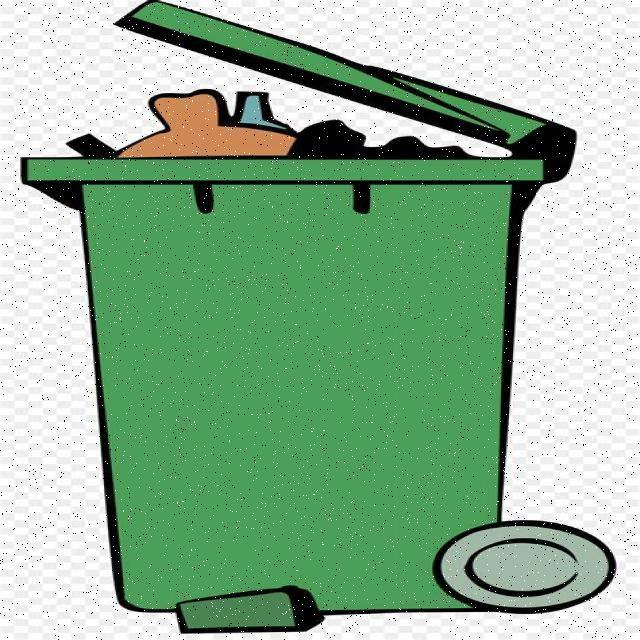garbage container: (2, 5, 613, 633)
